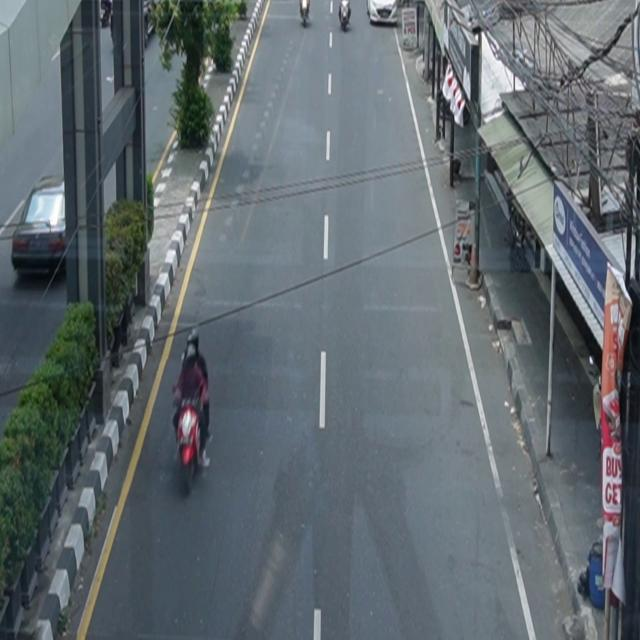car: (12, 175, 67, 278), (367, 1, 398, 26)
